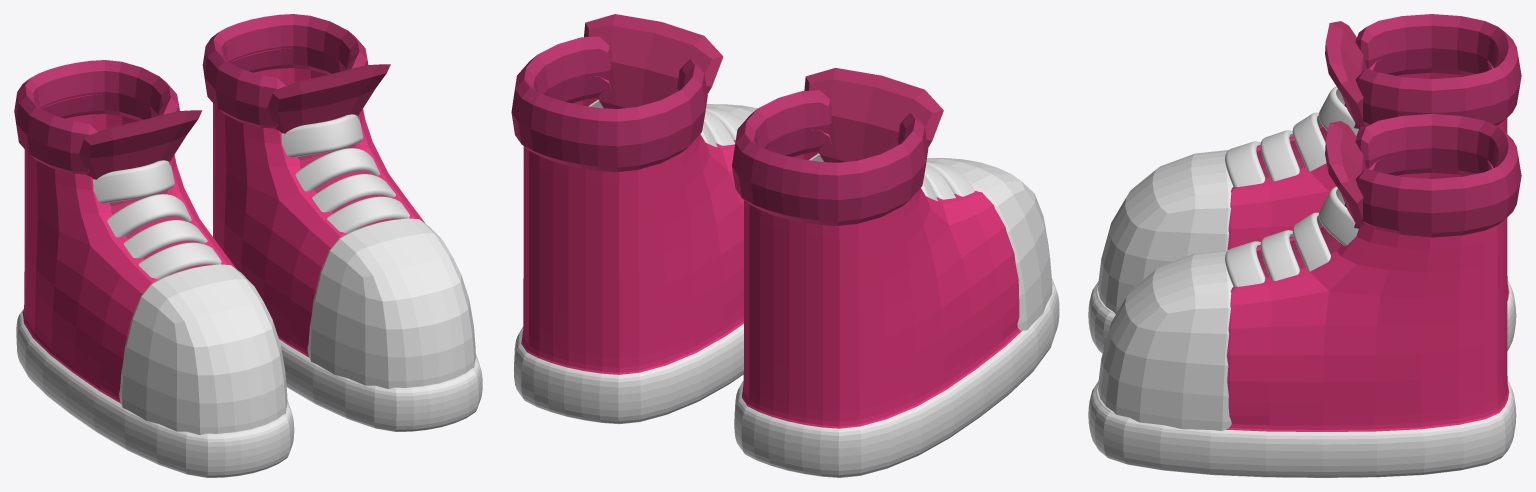
Rendered from pink-shoes.fbx.
3 renders of one model, left to right at view 1: azimuth 30°, elevation 25°; view 2: azimuth 150°, elevation 25°; view 3: azimuth 270°, elevation 25°, orthographic. The views are drawn at different scales.
Visible parts, largest first — view 1: Cube, Cube.004, Cube.007, Cube.003, Cube.002, Cube.006, Cube.005, Cube.001, NurbsPath.006, NurbsPath.002, NurbsPath.003, NurbsPath.007 (+4 smaller); view 2: Cube, Cube.004, Cube.006, Cube.002, Cube.001, Cube.005, Cube.003, NurbsPath.001; view 3: Cube.004, Cube.007, Cube.006, Cube.002, Cube.003, Cube, Cube.005, Cube.001, NurbsPath.008, NurbsPath.004, NurbsPath.007, NurbsPath.001 (+4 smaller).
Part boxes in pixels (<box>): Cube: <box>16,93,294,477</box>; Cube.004: <box>213,48,482,431</box>; Cube.007: <box>307,218,475,389</box>; Cube.003: <box>119,264,287,435</box>; Cube.002: <box>14,60,179,174</box>; Cube.006: <box>202,14,368,128</box>; Cube.005: <box>267,64,400,229</box>; Cube.001: <box>79,110,212,275</box>; NurbsPath.006: <box>281,114,363,157</box>; NurbsPath.002: <box>93,160,174,203</box>; NurbsPath.003: <box>107,194,191,237</box>; NurbsPath.007: <box>295,148,379,191</box>; Cube: <box>734,130,1059,477</box>; Cube.004: <box>514,76,743,424</box>; Cube.006: <box>511,36,707,172</box>; Cube.002: <box>732,90,928,225</box>; Cube.001: <box>804,67,943,162</box>; Cube.005: <box>584,14,723,108</box>; Cube.003: <box>926,158,1052,330</box>; NurbsPath.001: <box>926,161,974,196</box>; Cube.004: <box>1088,158,1516,477</box>; Cube.007: <box>1098,250,1233,430</box>; Cube.006: <box>1355,114,1521,237</box>; Cube.002: <box>1355,14,1521,125</box>; Cube.003: <box>1098,150,1233,313</box>; Cube: <box>1088,59,1516,353</box>; Cube.005: <box>1256,121,1366,278</box>; Cube.001: <box>1256,21,1366,178</box>; NurbsPath.008: <box>1260,230,1299,280</box>; NurbsPath.004: <box>1260,130,1299,181</box>; NurbsPath.007: <box>1292,212,1330,271</box>; NurbsPath.001: <box>1225,141,1265,186</box>.
Bounding box in the file's own units: 105 × 78.21 × 103.
